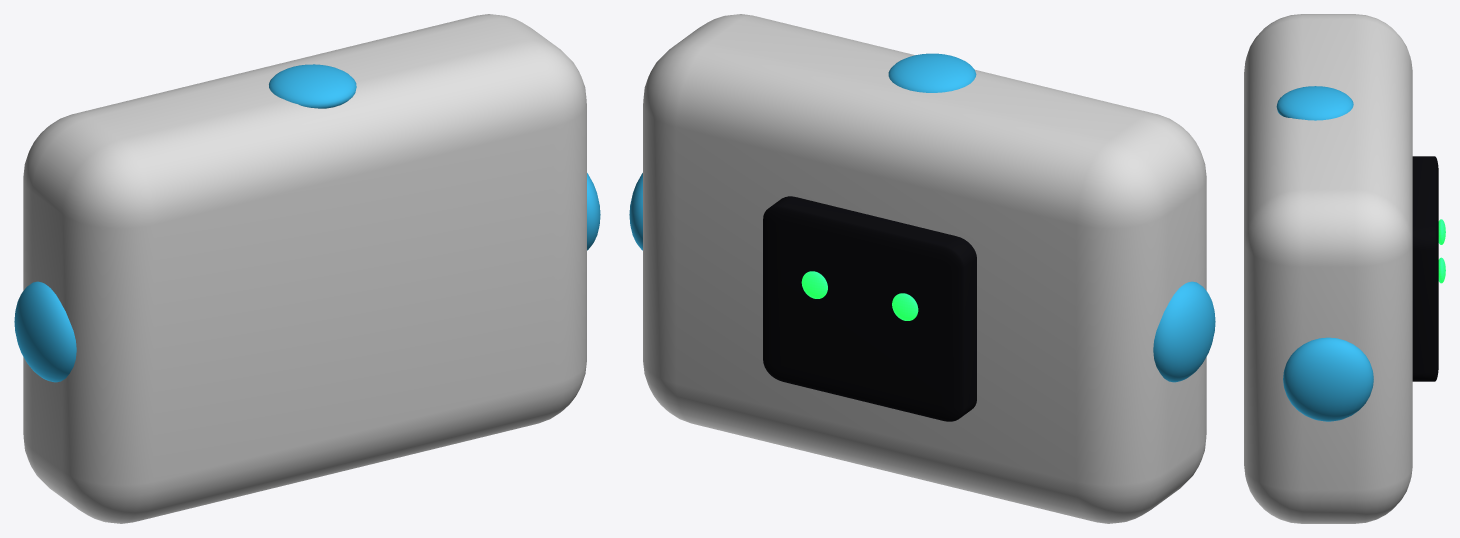
Rendered from perso.glb.
3 renders of one model, left to right at view 1: azimuth 30°, elevation 25°; view 2: azimuth 150°, elevation 25°; view 3: azimuth 270°, elevation 25°, orthographic. The views are drawn at different scales.
Parts seen in each view (by area): view 1: Cube, Sphere.003, Sphere.002, Sphere.004; view 2: Cube, Cube.001, Sphere.003, Sphere.002, Sphere.004; view 3: Cube, Cube.001, Sphere.004, Sphere.002.
Boxes of the visible parts, x1,y1,x2,y2 form: Cube: (23,14,586,523); Sphere.003: (14,281,76,382); Sphere.002: (269,64,356,108); Sphere.004: (587,173,600,250); Cube: (643,14,1206,523); Cube.001: (763,196,976,421); Sphere.003: (1153,281,1215,382); Sphere.002: (888,53,976,92); Sphere.004: (629,173,642,250); Cube: (1244,14,1412,523); Cube.001: (1412,156,1438,381); Sphere.004: (1283,337,1373,421); Sphere.002: (1276,86,1353,120).
Size of the model in its own units: 4.37 by 2.89 by 1.55.
